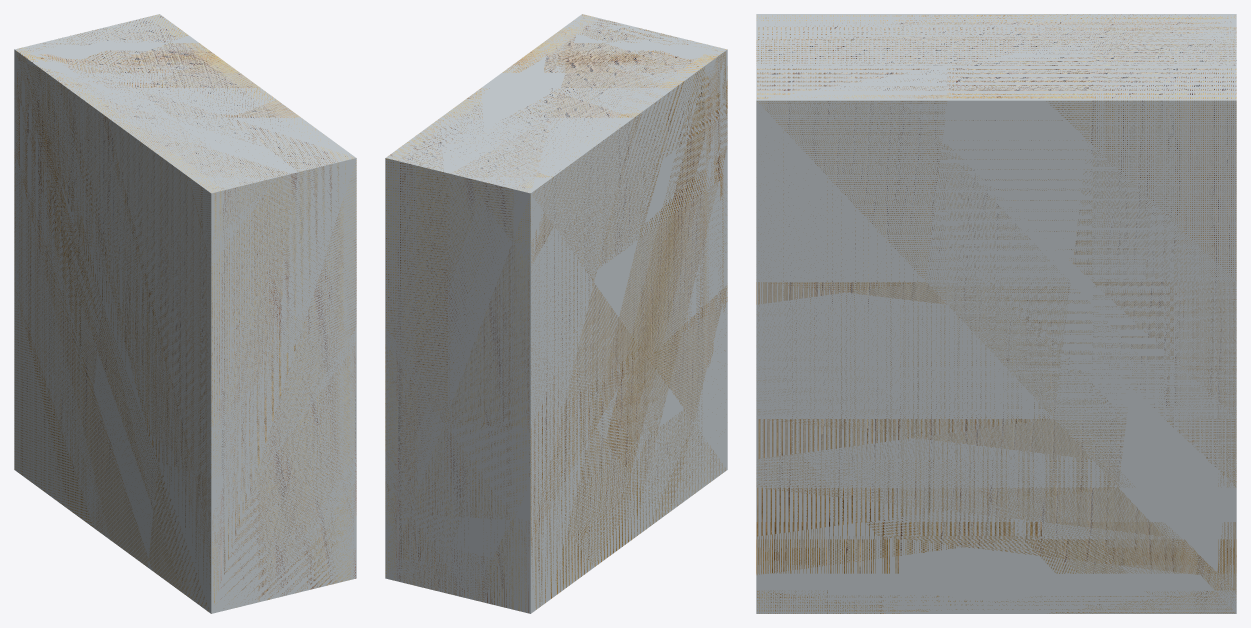
The model's file is getah.glb.
3 views of the same model, side by side, from view 1: azimuth 30°, elevation 25°; view 2: azimuth 150°, elevation 25°; view 3: azimuth 270°, elevation 25° (orthographic). The views are drawn at different scales.
Parts seen in each view (by area): view 1: BackSide, FrontSide; view 2: BackSide, FrontSide; view 3: BackSide, FrontSide.
Part boxes in pixels (<box>): BackSide: <box>14,14,356,613</box>; FrontSide: <box>14,14,356,611</box>; BackSide: <box>385,14,727,613</box>; FrontSide: <box>385,14,727,612</box>; BackSide: <box>756,14,1236,613</box>; FrontSide: <box>756,14,1236,613</box>.
Size of the model in its own units: 0.6963 by 1.93 by 1.63.
4 materials, 3 textured.
